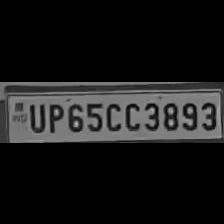3: (141, 98, 159, 130), (199, 98, 217, 130)
5: (84, 98, 104, 130)
6: (64, 100, 82, 132)
8: (161, 98, 179, 130)
9: (178, 98, 198, 130)
C: (122, 98, 140, 130), (104, 98, 120, 130)
P: (45, 99, 63, 133)
U: (25, 100, 45, 132)
